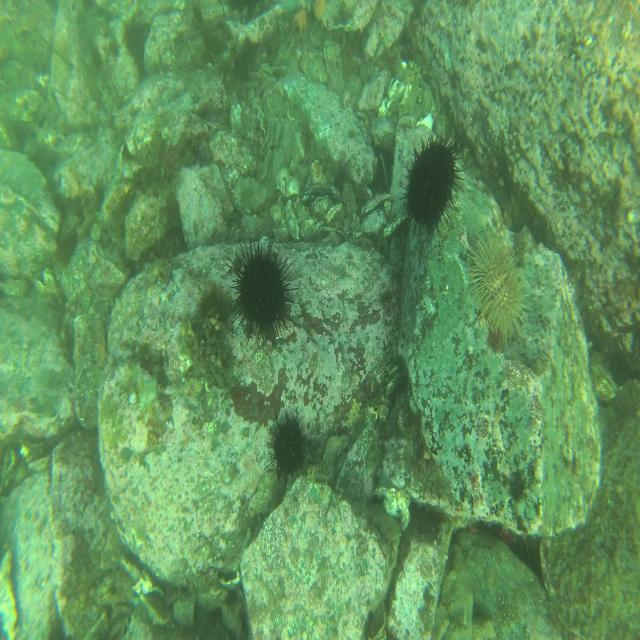echinus: (467, 232, 523, 340), (232, 242, 291, 342), (405, 133, 458, 231), (267, 415, 306, 481)
